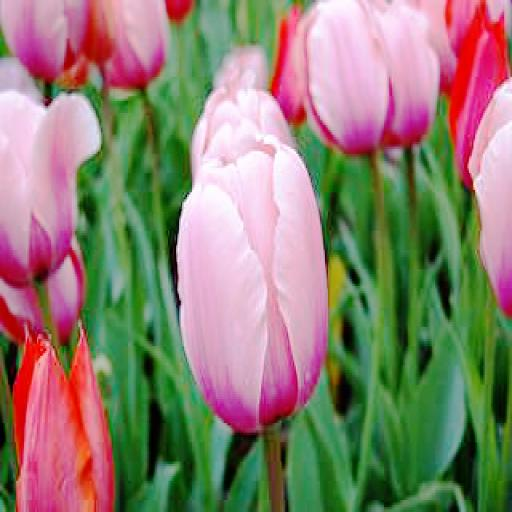tulip: (173, 146, 331, 428), (6, 322, 118, 512), (469, 82, 512, 320), (188, 82, 294, 163)
